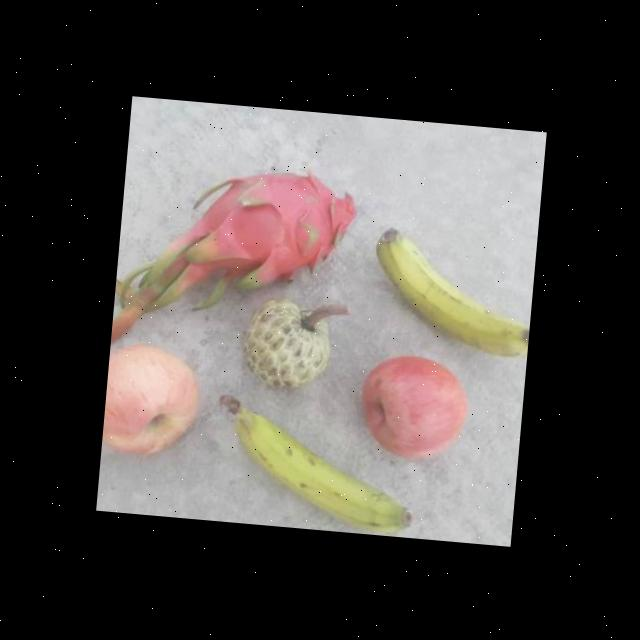Sakya fruit: (235, 292, 341, 393)
apple: (352, 346, 474, 467), (100, 340, 207, 460)
banana: (208, 391, 429, 537), (364, 224, 536, 358)
pitaya: (185, 158, 364, 306)
